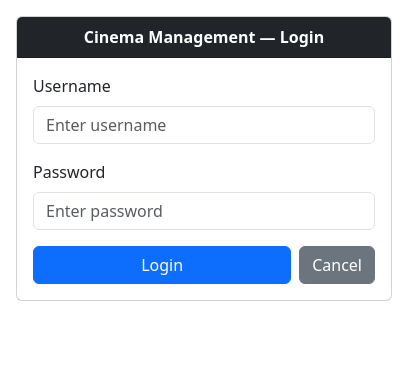
Test: Login — TODO-01 › TODO-01: shows Alert when credentials are wrong
Step 1. Type "wrong" into the field with placeholder "Enter username" → (204, 125), box [33,106,375,144]
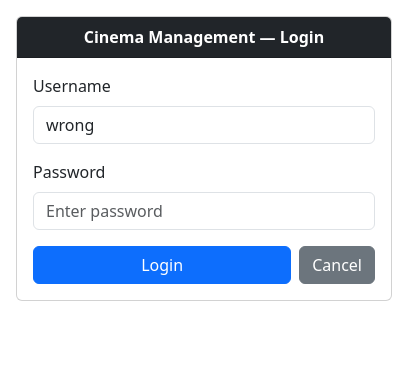
Step 2. Type "wrong" into the password field with placeholder "Enter password" → (204, 211), box [33,192,375,230]
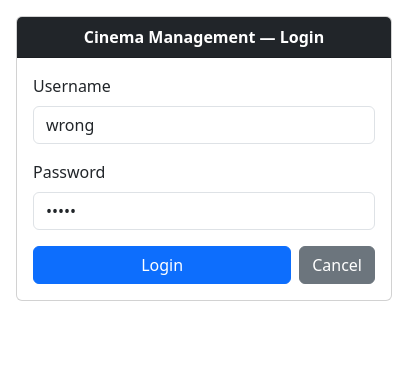
Step 3. Click the button "Login" → (162, 265), box [33,246,291,284]
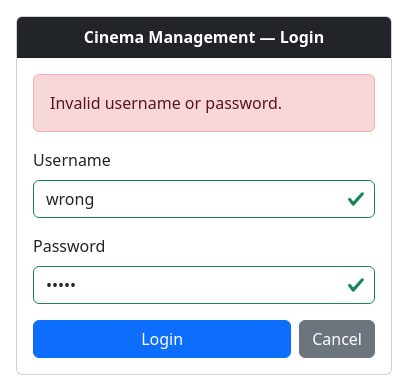
Now the message "Invalid username or password." is shown, box [33,74,375,132]
